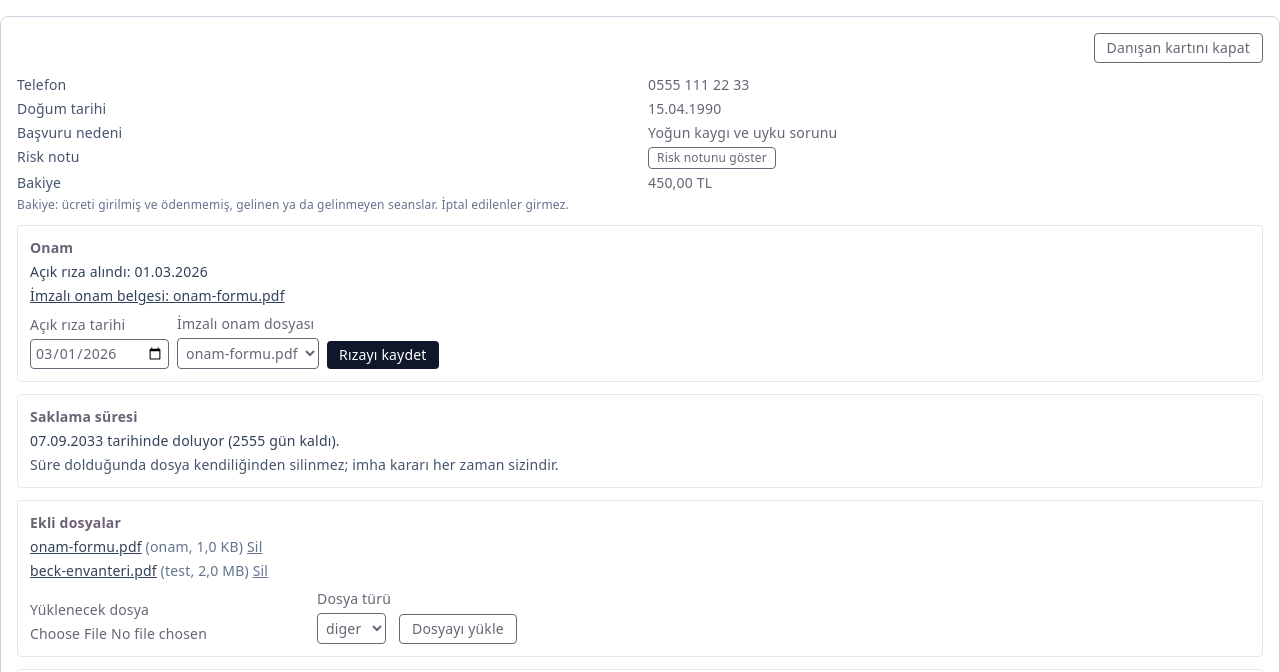
Test case: DosyaBilgileri — ek silme (dal incelemesi: DELETE /api/ekler/{id}) › vazgecince hicbir istek gitmez ve onay kapanir
Click the button with aria-label "onam-formu.pdf dosyasını sil": (255, 547) [247,537,262,557]
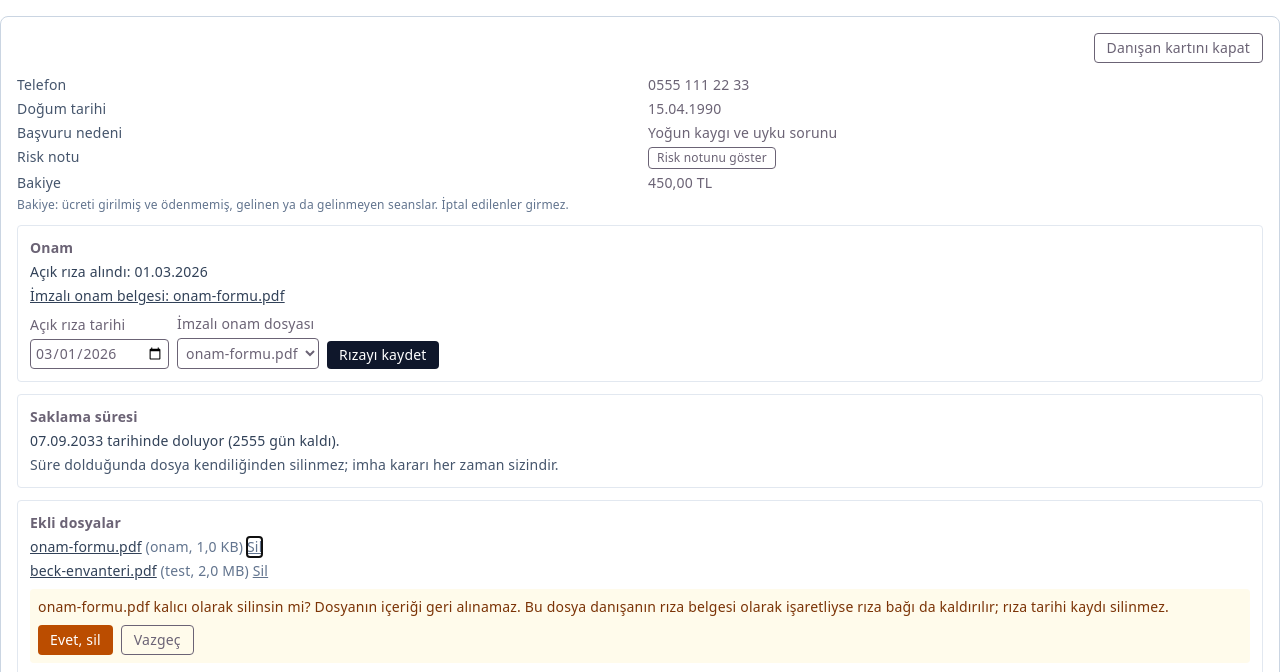
Click the button "Vazgeç": (157, 640) [121,625,194,655]
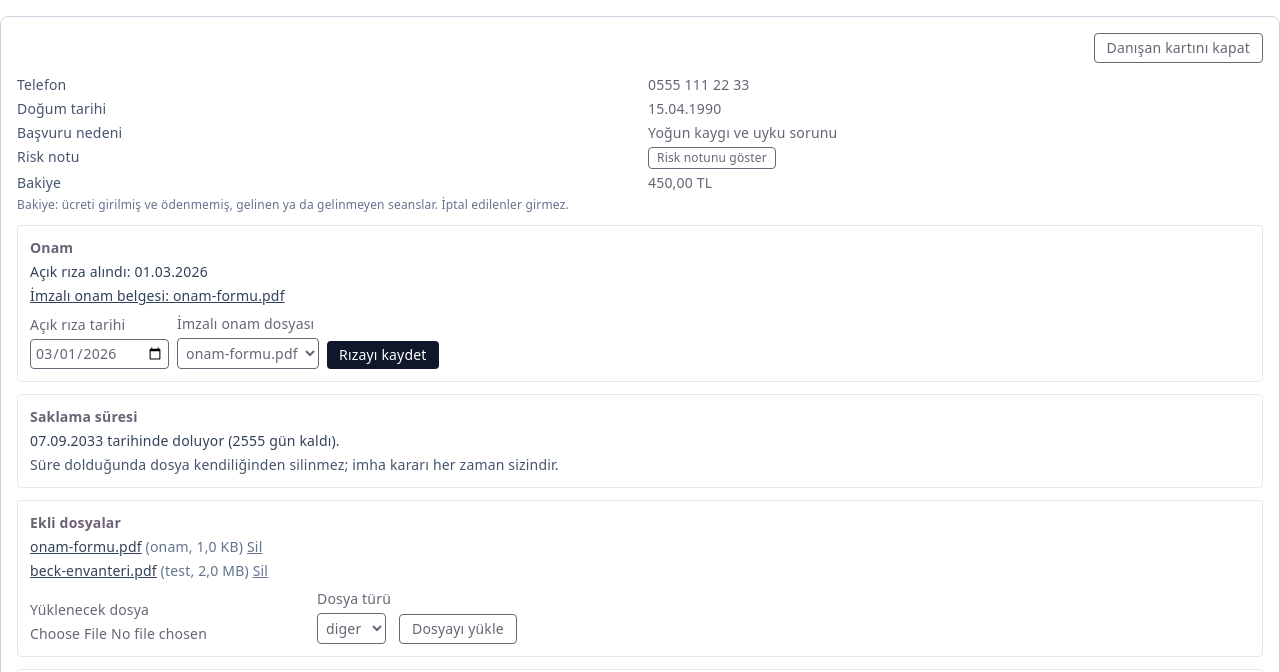
Expected: the text "kalıcı olarak silinsin mi" is gone
